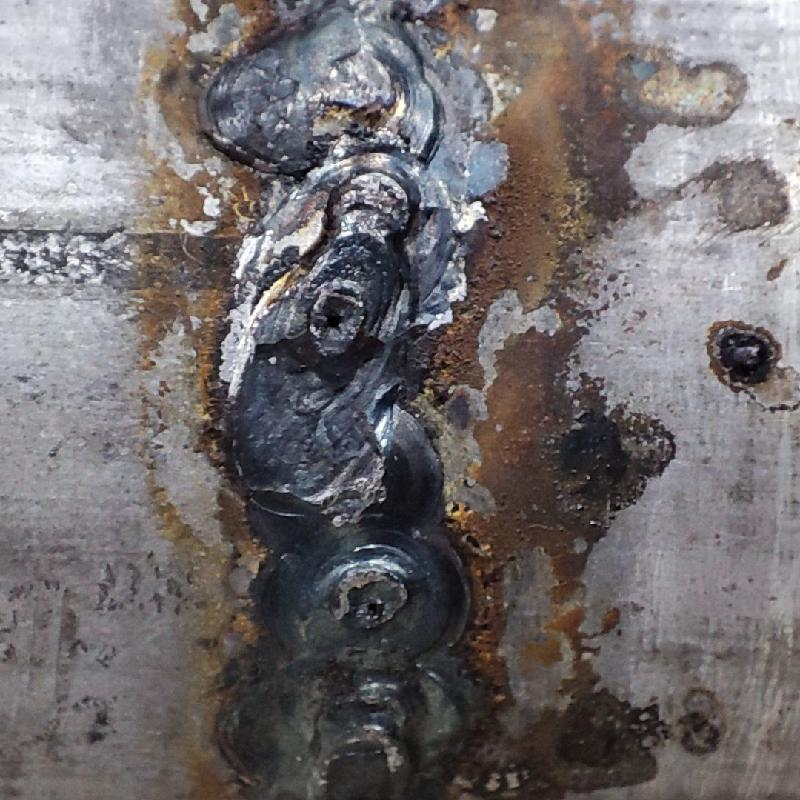Surface_pores: (323, 568, 398, 632), (309, 284, 365, 352)
wrong_size: (216, 3, 469, 795)
